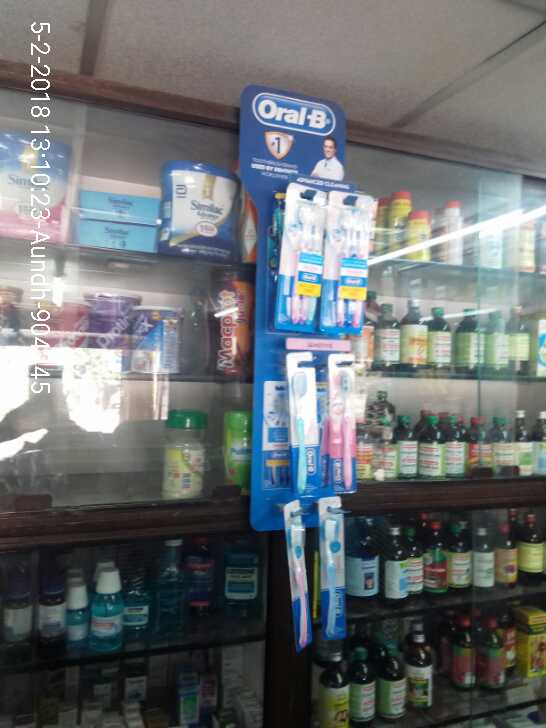oralb: (324, 191, 373, 336), (276, 180, 321, 335), (281, 351, 322, 500), (277, 498, 314, 645), (326, 354, 356, 495), (317, 496, 346, 639)
